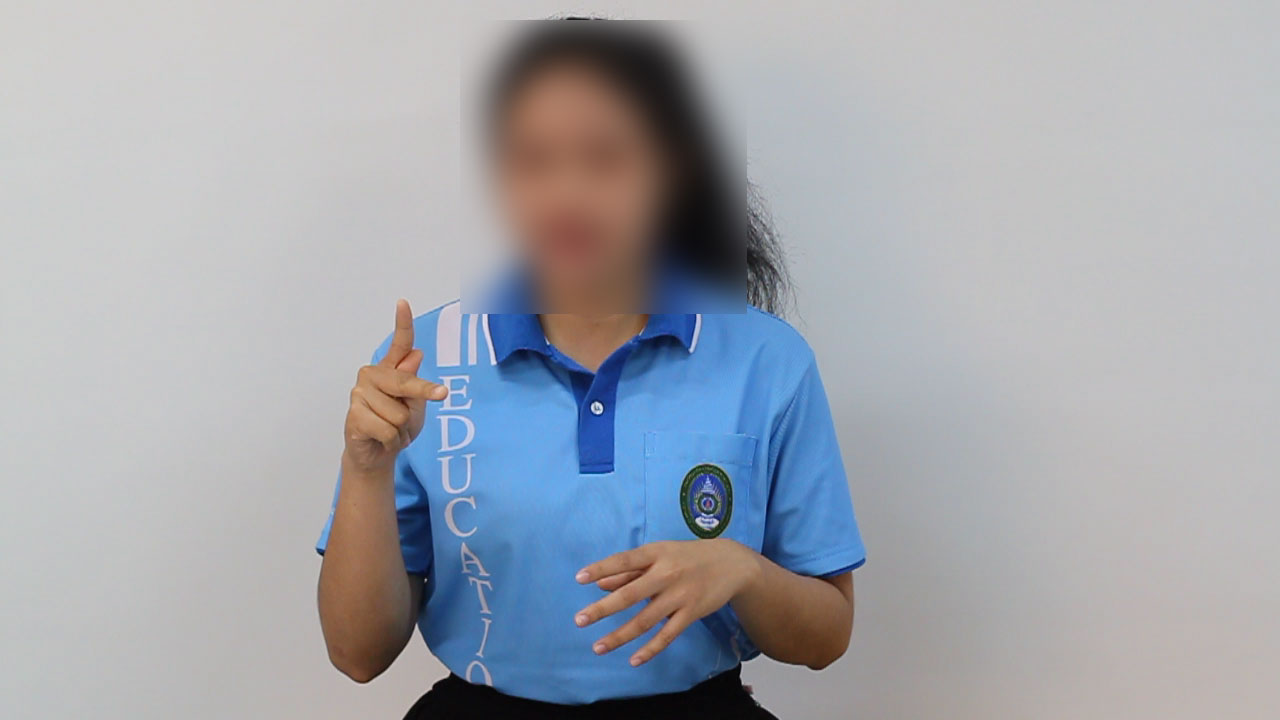ko: (302, 295, 496, 481)
